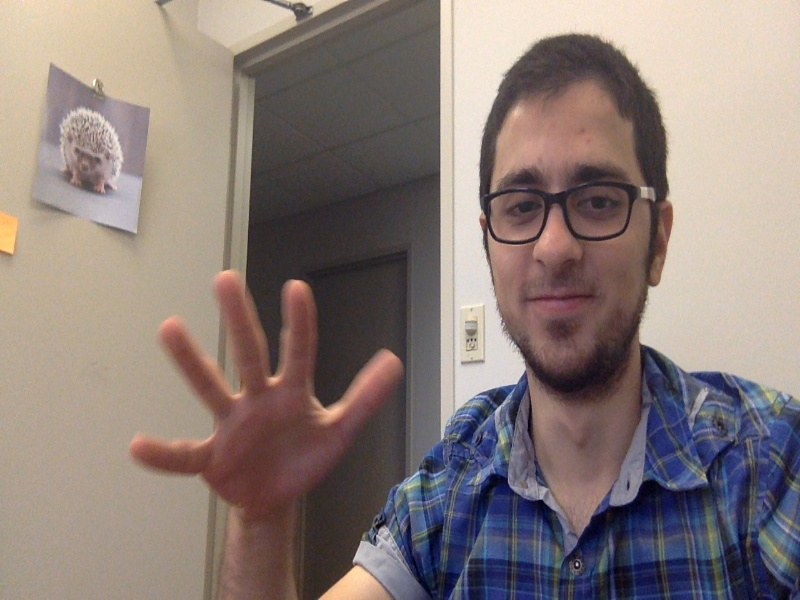5-hand: (125, 269, 402, 509)
